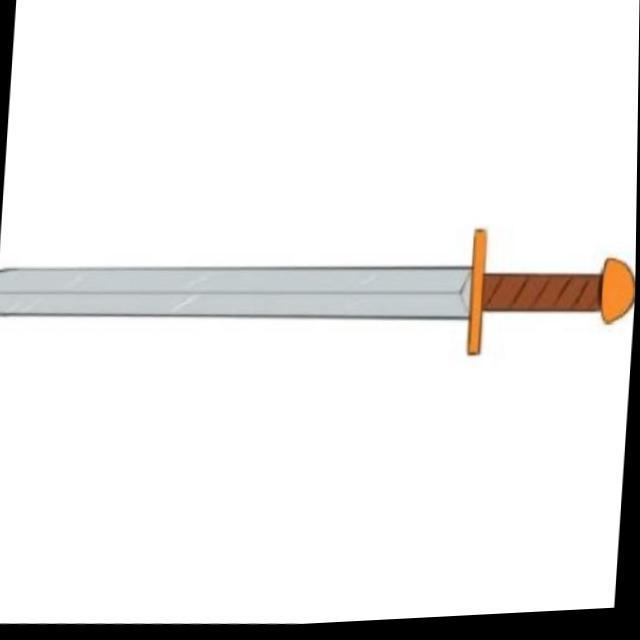weapon: (0, 201, 637, 390)
